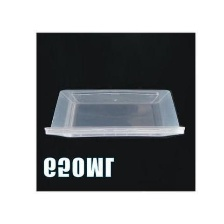plastic_box: (39, 83, 189, 146)
